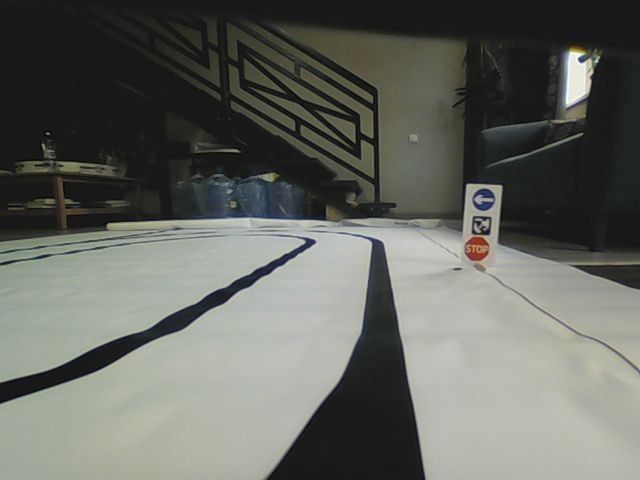Stop: (465, 237, 490, 259)
